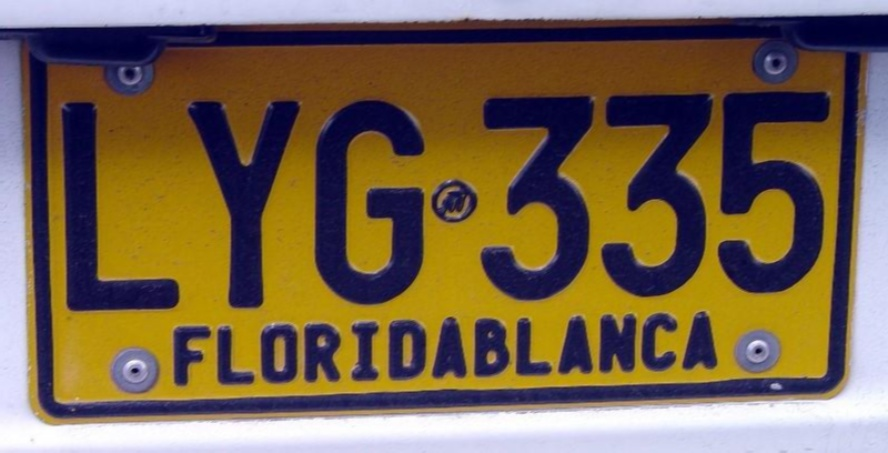placas: (17, 18, 868, 432)
